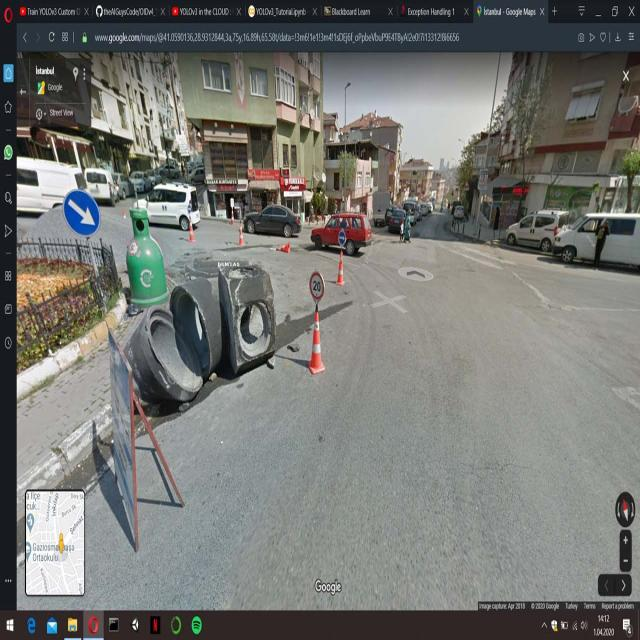20: (310, 271, 324, 299)
sag: (338, 228, 347, 248)
